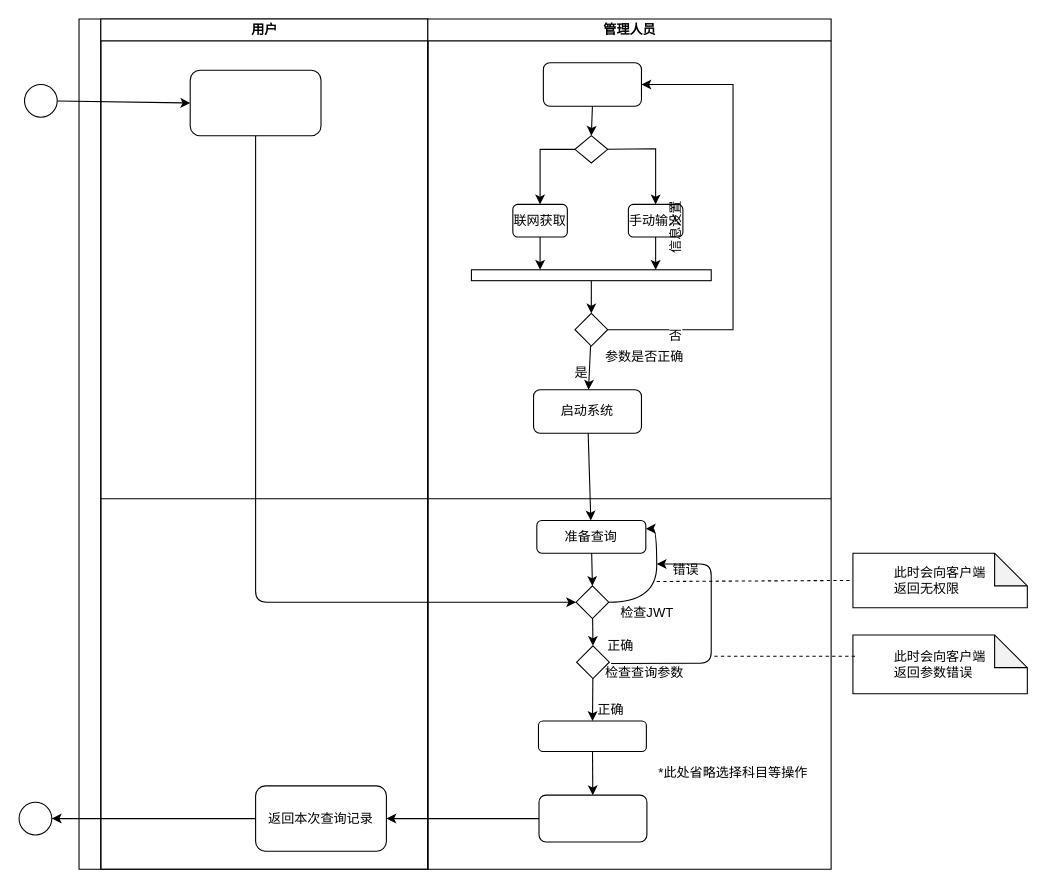
Image size: 1046x888. Some labels were removed from this diagram. The shapes that lost their labels are listed below. From the top down, each one's centre as x and y in pixels, then its label:
[255,102]: 请求获取成绩
[591,84]: 设置系统参数
[591,736]: 查询相关成绩
[592,818]: 保存查询记录
